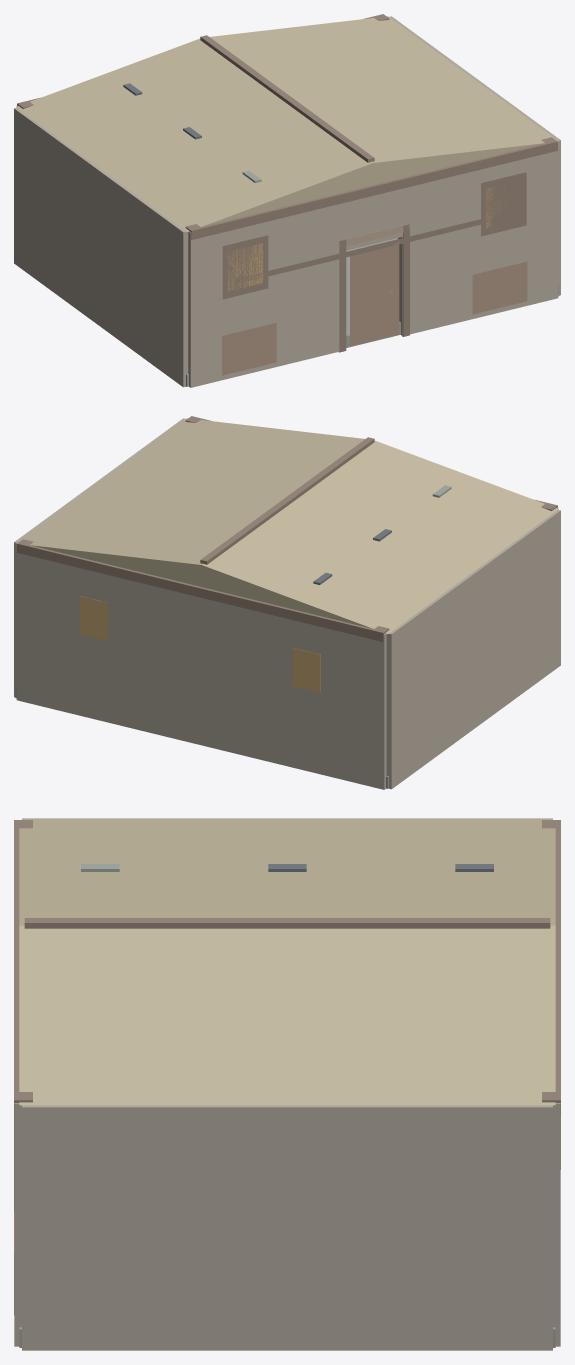
Rendered from market_stallhouse_inhabited.glb.
3 views of the same model, one above another, from view 1: azimuth 30°, elevation 25°; view 2: azimuth 150°, elevation 25°; view 3: azimuth 270°, elevation 25° (orthographic). The views are drawn at different scales.
Parts seen in each view (by area): view 1: market_stallhouse_mat_01, market_stallhouse_mat_07, market_stallhouse_mat_02, market_stallhouse_mat_04, market_stallhouse_mat_06, market_stallhouse_mat_00, market_stallhouse_mat_03; view 2: market_stallhouse_mat_01, market_stallhouse_mat_07, market_stallhouse_mat_02, market_stallhouse_mat_06; view 3: market_stallhouse_mat_07, market_stallhouse_mat_01, market_stallhouse_mat_02.
Boxes of the visible parts, x1=… form: market_stallhouse_mat_01: x1=14, y1=16, x2=560, y2=387; market_stallhouse_mat_07: x1=16, y1=16, x2=558, y2=232; market_stallhouse_mat_02: x1=17, y1=14, x2=557, y2=352; market_stallhouse_mat_04: x1=222, y1=183, x2=527, y2=375; market_stallhouse_mat_06: x1=227, y1=188, x2=501, y2=291; market_stallhouse_mat_00: x1=186, y1=238, x2=559, y2=386; market_stallhouse_mat_03: x1=339, y1=223, x2=410, y2=247; market_stallhouse_mat_01: x1=14, y1=418, x2=560, y2=789; market_stallhouse_mat_07: x1=16, y1=418, x2=558, y2=634; market_stallhouse_mat_02: x1=17, y1=416, x2=557, y2=641; market_stallhouse_mat_06: x1=80, y1=596, x2=320, y2=692; market_stallhouse_mat_07: x1=19, y1=820, x2=555, y2=1105; market_stallhouse_mat_01: x1=14, y1=818, x2=560, y2=1350; market_stallhouse_mat_02: x1=14, y1=820, x2=560, y2=1210.
Size of the model in its own units: 4.97 by 2.3 by 3.98.
